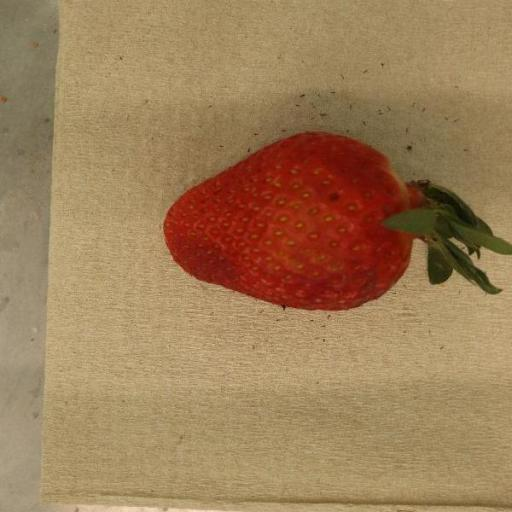Strawberry: (164, 132, 512, 312)
